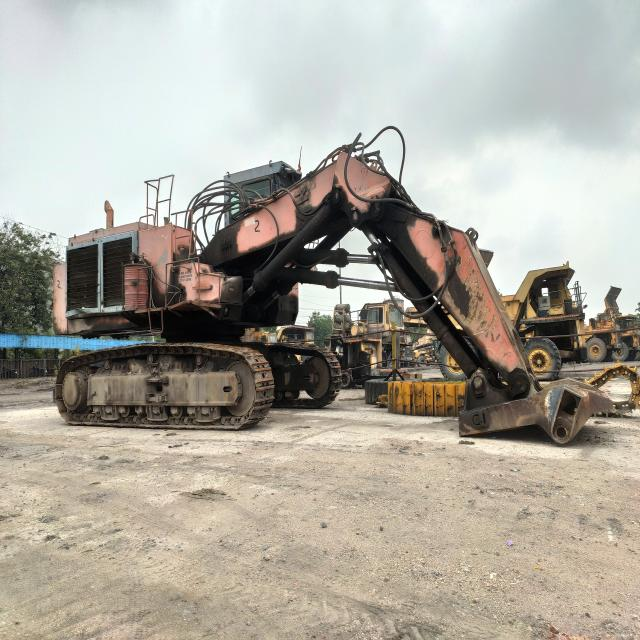dump_truck: (503, 266, 589, 365)
excavator: (53, 139, 565, 442)
